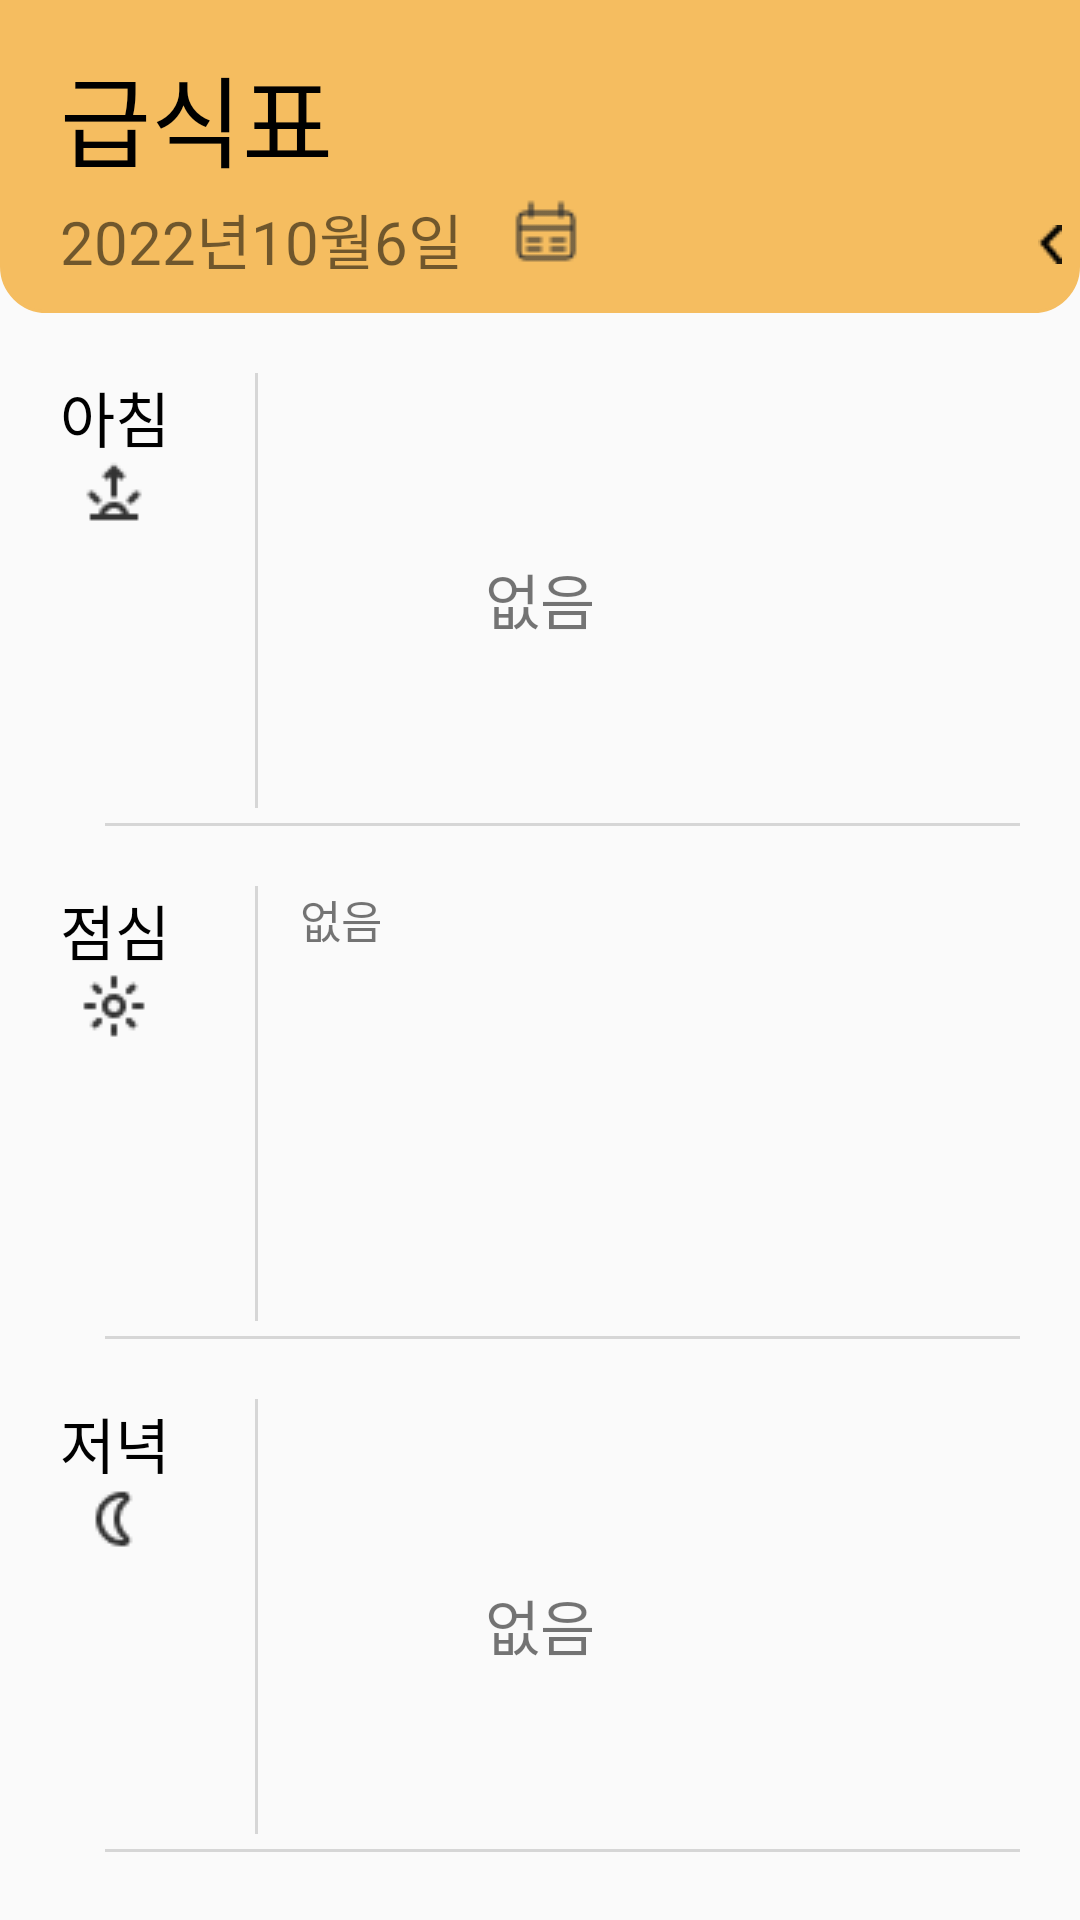

Locate icon controls on the screen. Image size 1080w x 1920h, boxes as (x1, y1, x2, y2).
calendar: (515, 201, 577, 262)
nowback: (1038, 225, 1062, 264)
